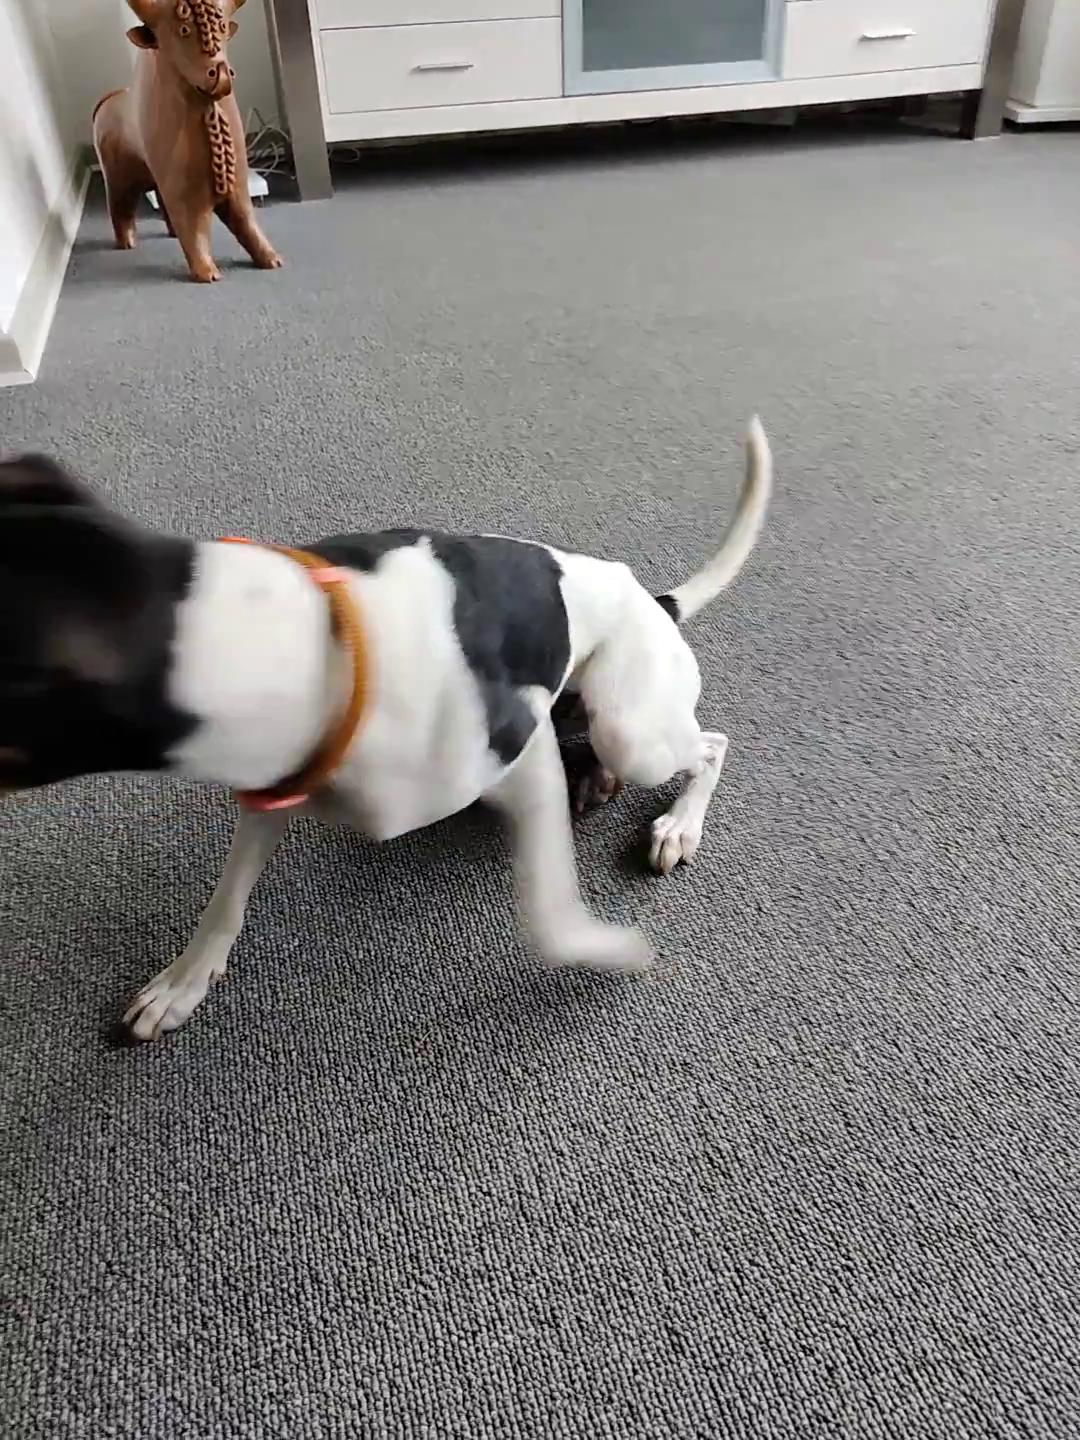Dog: (0, 386, 811, 1054)
